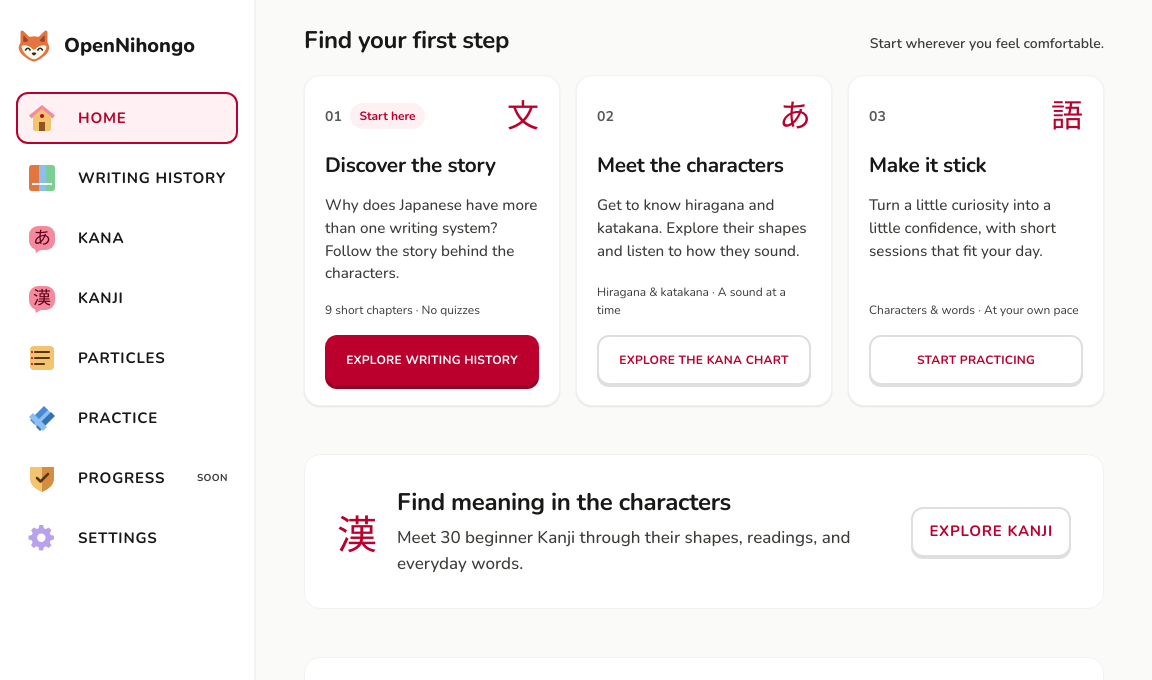
Test: writing history reader › opens from Home and reads a chapter without automatically completing it
(page scrolled)
Click the link "Explore writing history": x=432, y=360 left=325, top=335, right=539, bottom=385
(page scrolled)
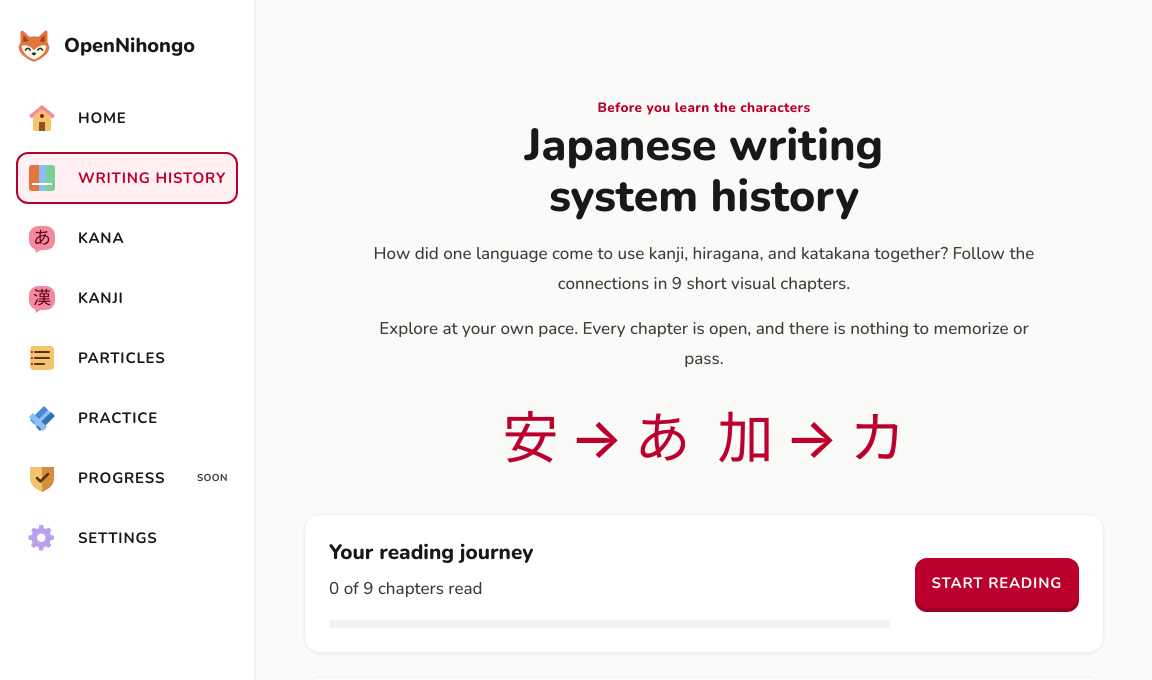
Result: the heading "Japanese writing system history" is shown at left=525, top=115, right=883, bottom=227
Result: the text "0 of 9 chapters read" is shown at left=329, top=577, right=483, bottom=600
Click the link "Start reading": x=997, y=583 left=914, top=558, right=1079, bottom=608
(page scrolled)
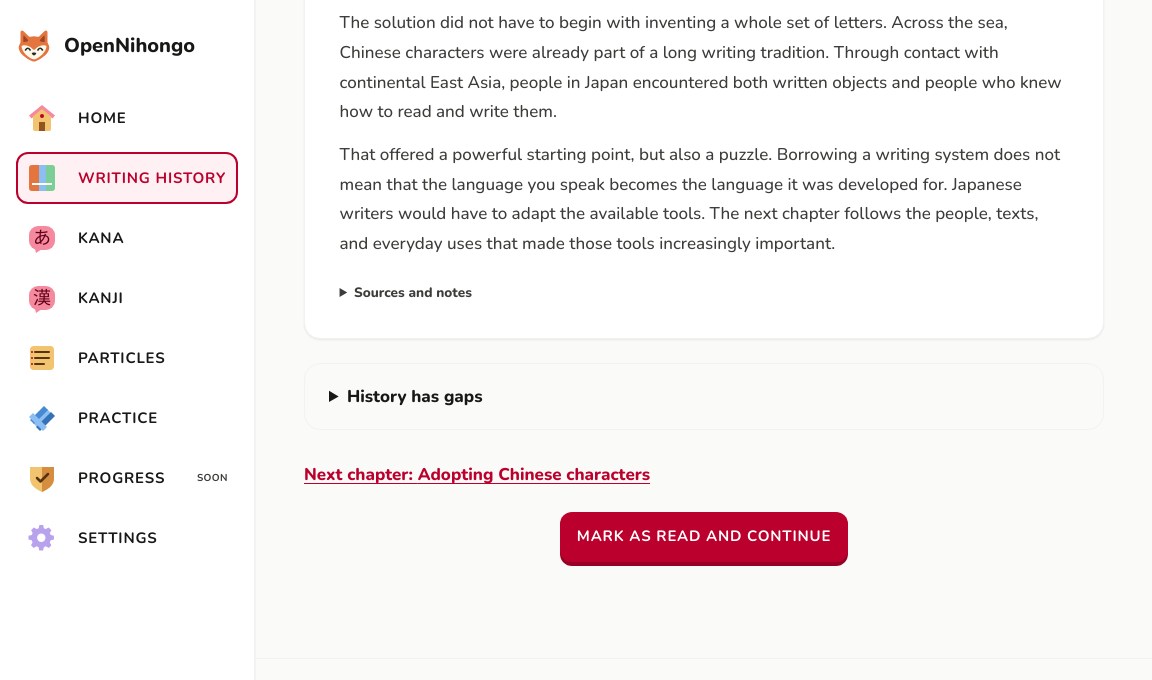
Result: the link "Writing history" is marked as current at left=16, top=152, right=238, bottom=204
Click the button "Mark as read and continue": x=704, y=537 left=560, top=512, right=848, bottom=562
(page scrolled)
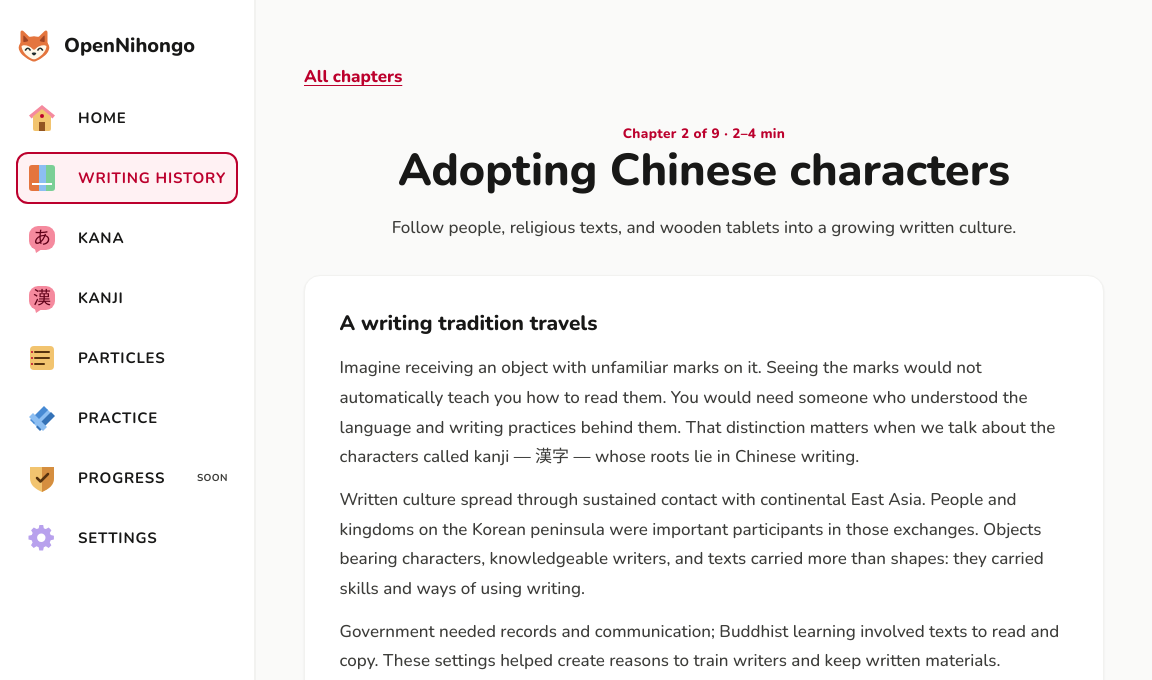
Result: the heading "Adopting Chinese characters" is shown at left=368, top=145, right=1040, bottom=197
Click the link "All chapters": x=353, y=76 left=304, top=65, right=402, bottom=88
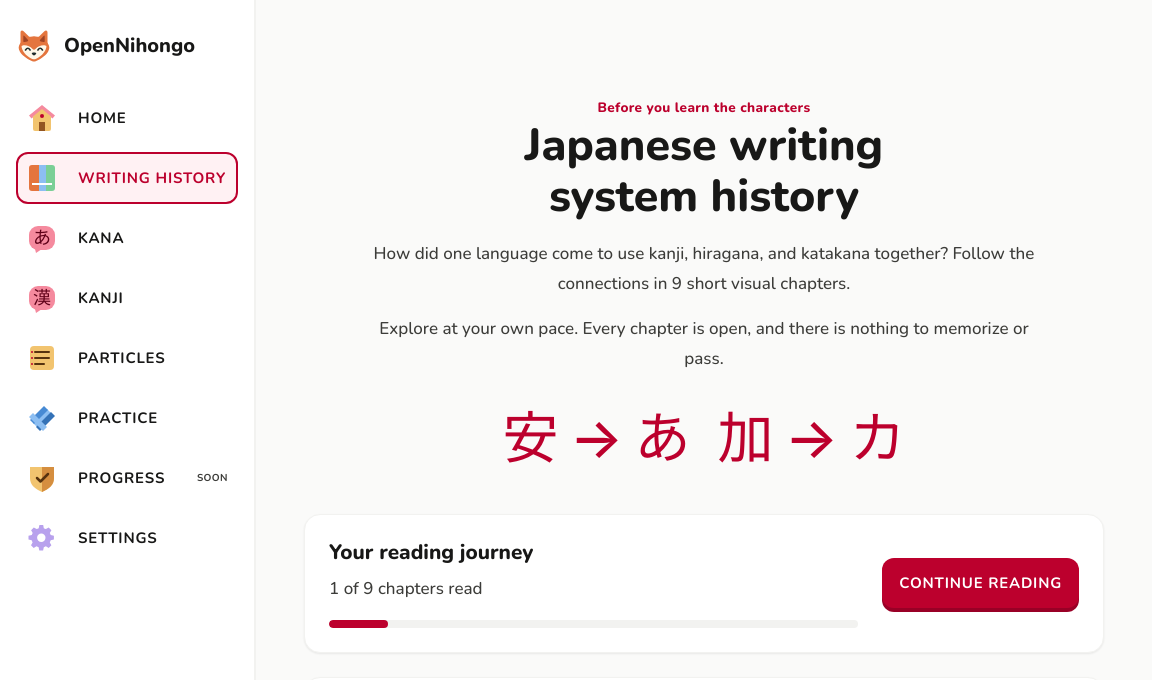
Result: the text "1 of 9 chapters read" is shown at left=329, top=577, right=483, bottom=600
